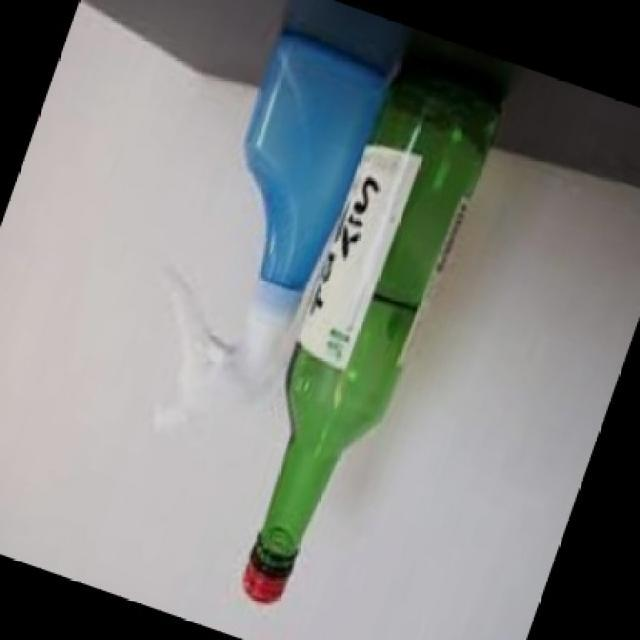Glass: (243, 56, 511, 606)
